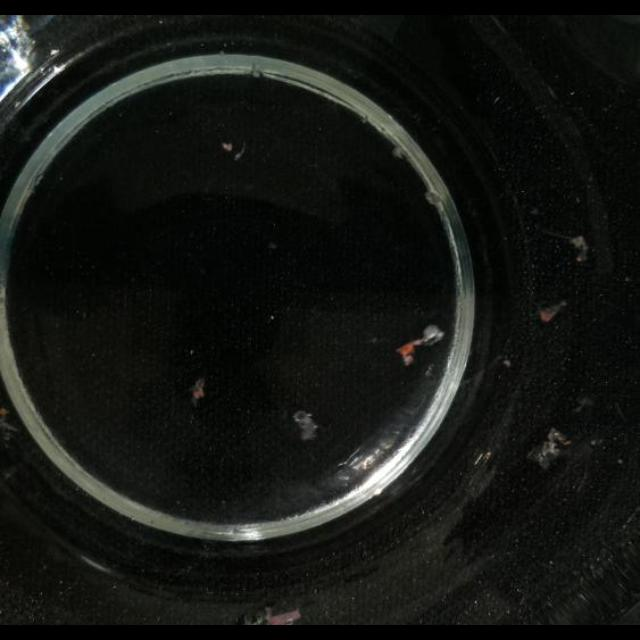Fragment: (396, 324, 444, 366), (528, 426, 572, 468), (292, 411, 320, 442), (539, 301, 567, 323), (190, 377, 207, 405), (1, 408, 18, 434), (223, 140, 245, 160), (572, 238, 588, 262)
microbeads: (390, 145, 408, 161), (222, 142, 232, 152), (0, 407, 10, 417), (501, 358, 511, 368), (269, 314, 275, 320)
